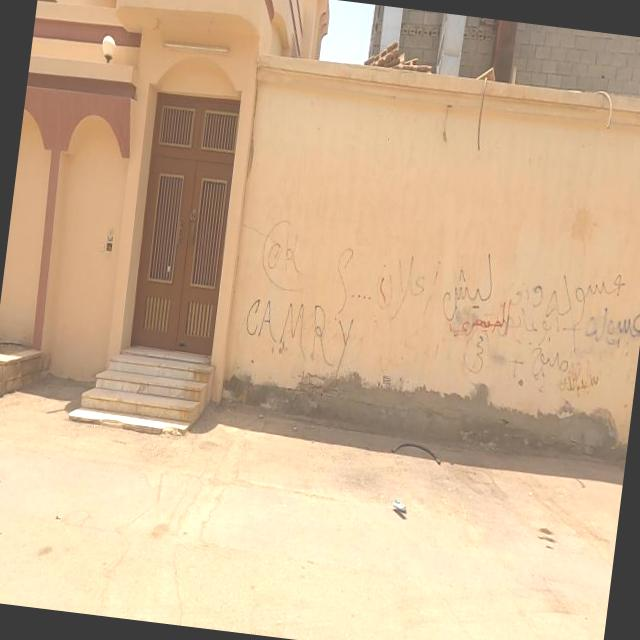debris: (379, 163, 640, 484), (317, 177, 559, 391), (165, 239, 432, 429), (220, 168, 368, 346), (342, 382, 491, 503), (302, 201, 397, 356)
